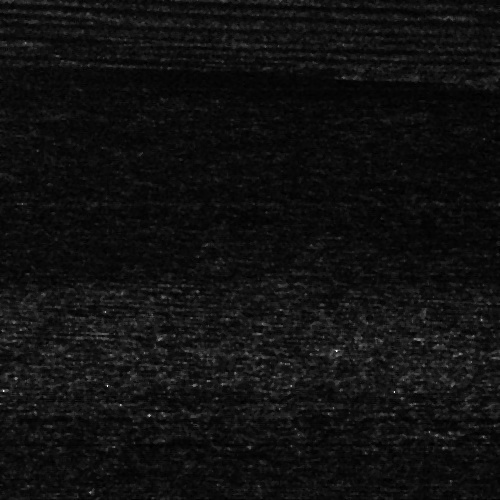object: (416, 9, 500, 18)
shadow: (462, 9, 500, 18)
